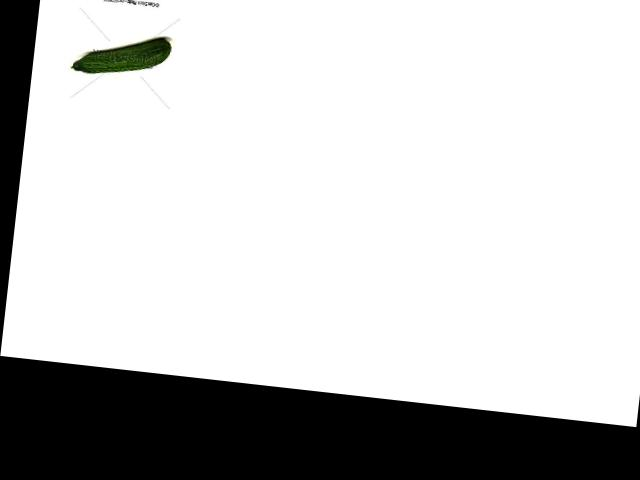cucumber: (70, 28, 171, 81)
